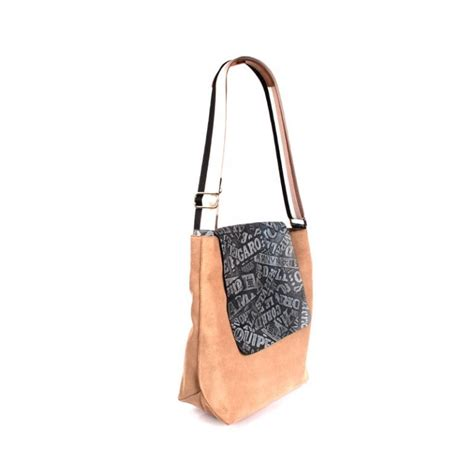gamuza: (178, 221, 314, 426)
